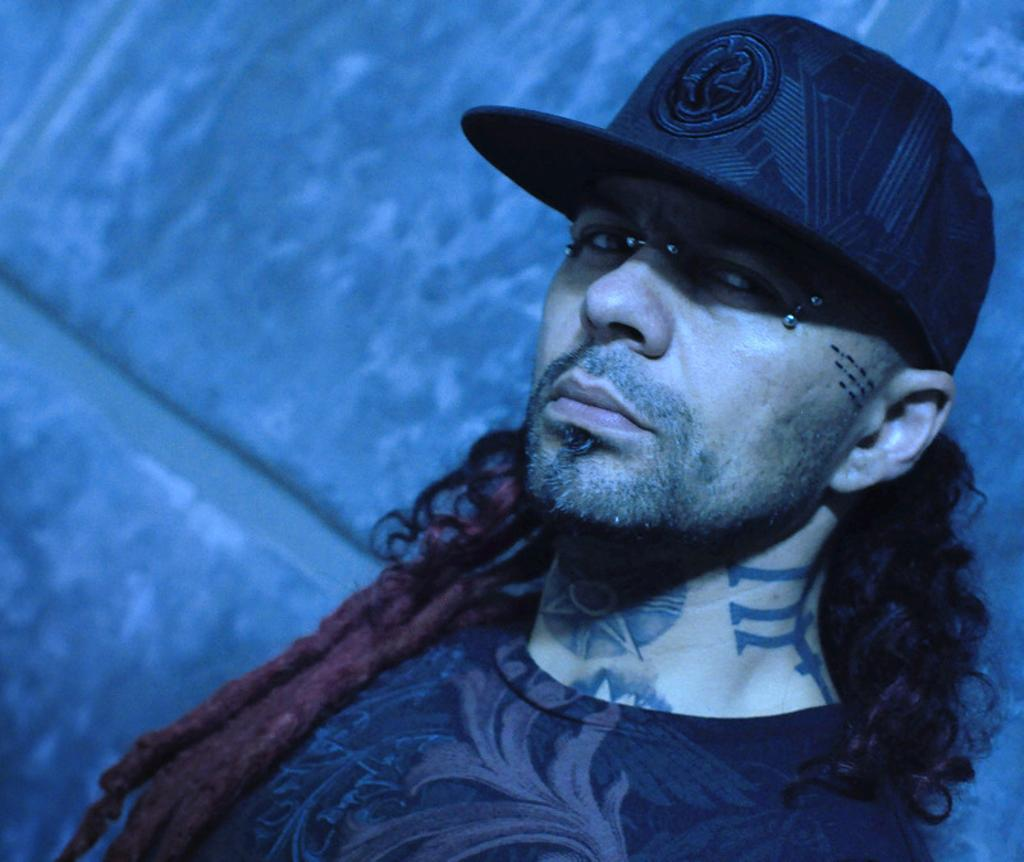face: (527, 125, 863, 527)
